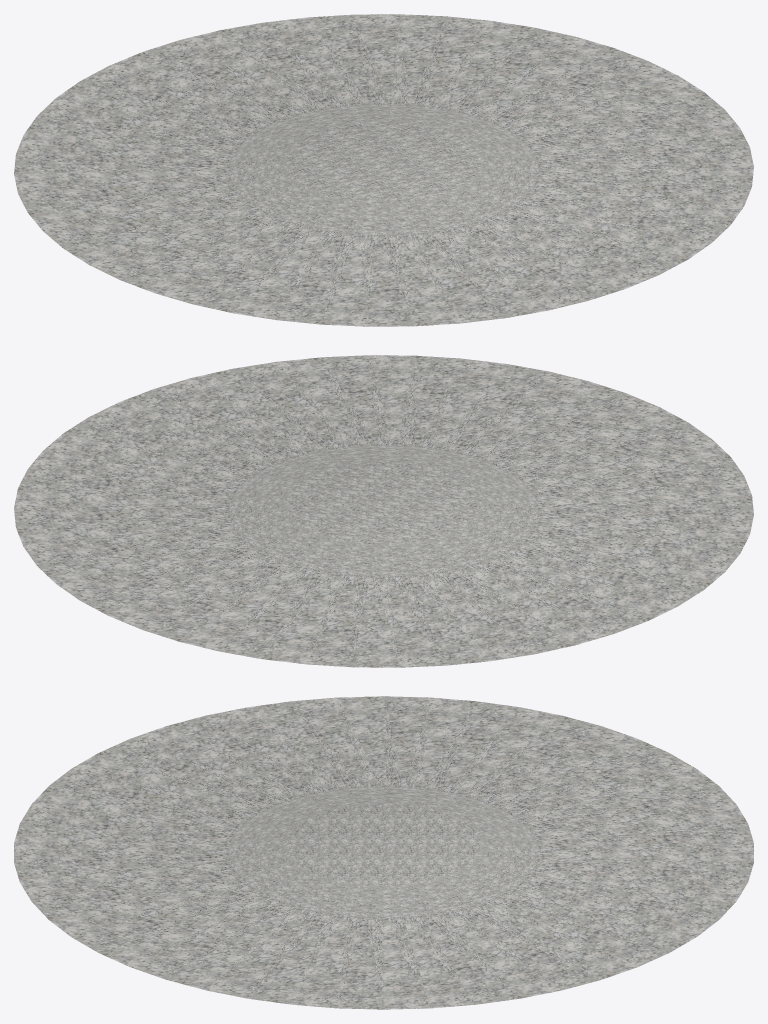
Rendered from WarlockMap.obj.
The picture shows the model from 3 angles, top to bottom: view 1: azimuth 30°, elevation 25°; view 2: azimuth 150°, elevation 25°; view 3: azimuth 270°, elevation 25°; orthographic projection.
Parts seen in each view (by area): view 1: pCylinder1; view 2: pCylinder1; view 3: pCylinder1.
Part boxes in pixels (x1,y1,x2,y2): pCylinder1: (14, 14, 753, 326); pCylinder1: (14, 355, 753, 667); pCylinder1: (14, 696, 753, 1009).
Size of the model in its own units: 332 by 9.57 by 332.
1 material, 1 textured.
